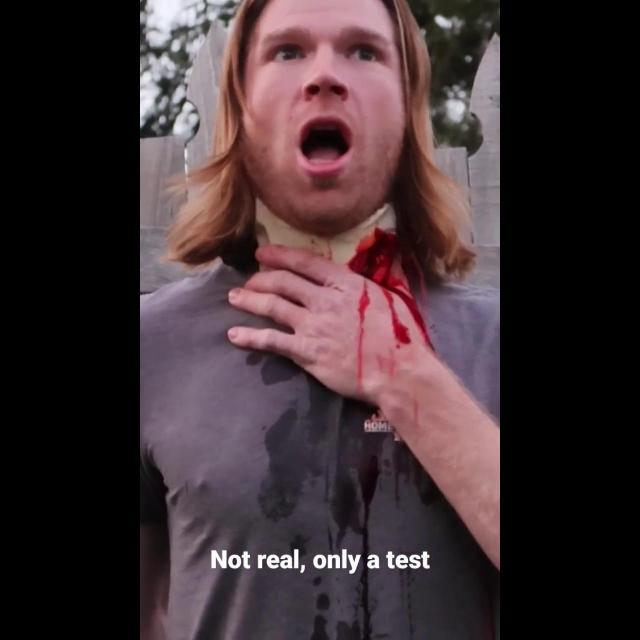blood: (348, 228, 432, 348), (382, 288, 411, 349), (355, 280, 370, 397)
